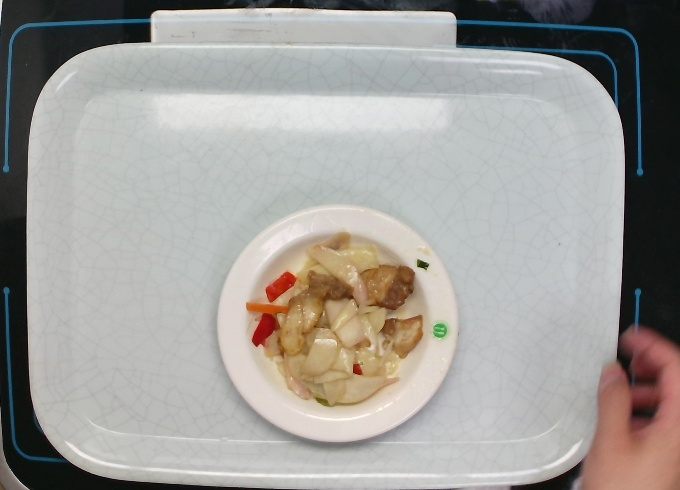WCQzf-Kuan_Bian_Yuan_Die: (212, 194, 465, 451)
